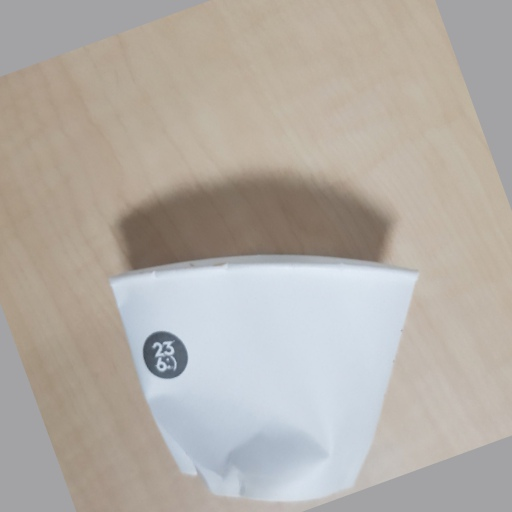Paper_1: (104, 250, 424, 503)
